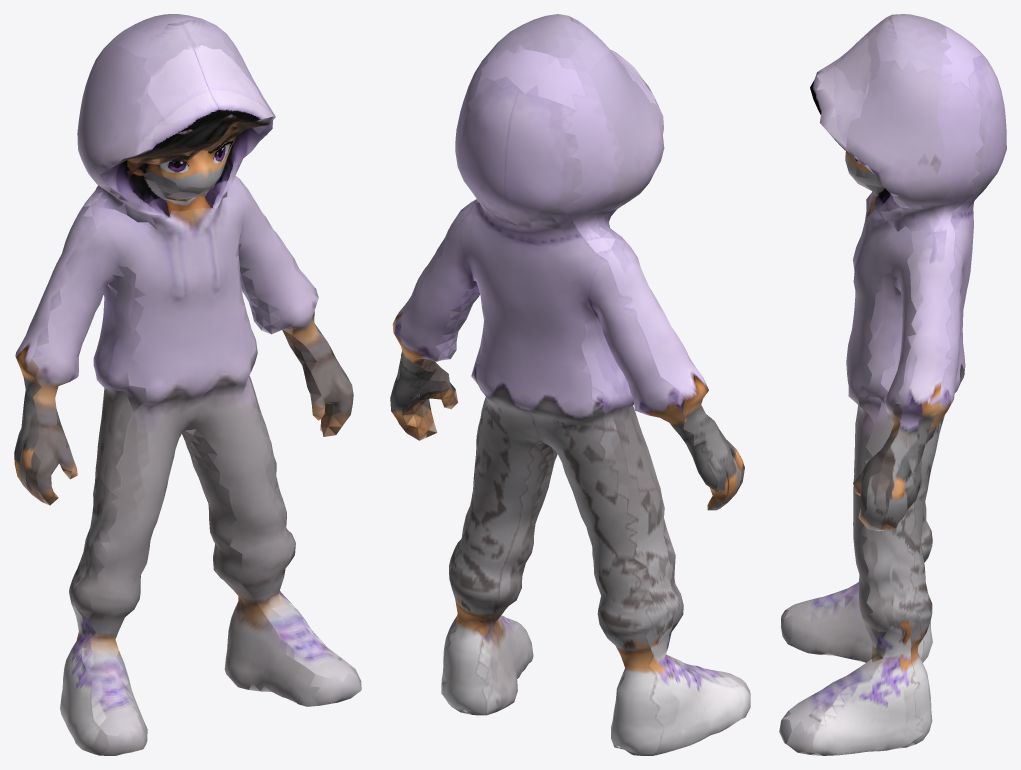
File: ghostly-shadow-toon.glb
The picture shows the model from 3 angles, left to right: view 1: azimuth 30°, elevation 25°; view 2: azimuth 150°, elevation 25°; view 3: azimuth 270°, elevation 25°; orthographic projection. The views are drawn at different scales.
Parts seen in each view (by area): view 1: world; view 2: world; view 3: world.
Boxes of the visible parts, <box> form: world: <box>14,14,361,755</box>; world: <box>390,14,750,755</box>; world: <box>779,14,1006,755</box>.
Size of the model in its own units: 0.4734 by 0.9415 by 0.2849.
Materials: 1 (1 with a texture image).
